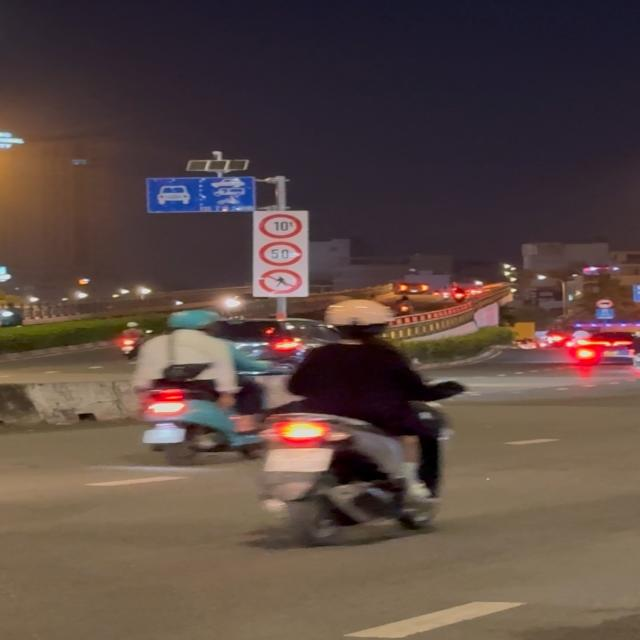Bien bao cam nguoi di bo: (256, 268, 306, 295)
Bien bao toc do toi da cho phep: (259, 241, 305, 268)
